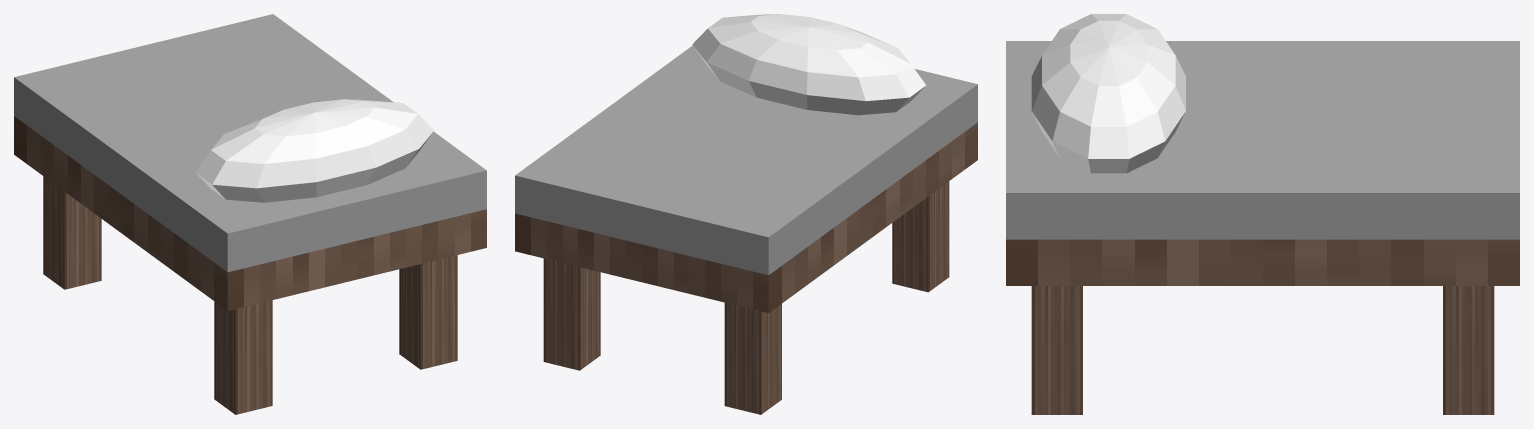
Rendered from Bed.gltf.
3 renders of one model, left to right at view 1: azimuth 30°, elevation 25°; view 2: azimuth 150°, elevation 25°; view 3: azimuth 270°, elevation 25°, orthographic. The views are drawn at different scales.
Parts seen in each view (by area): view 1: mesh (×5), sphere; view 2: mesh (×5), sphere; view 3: mesh (×4), sphere.
Part boxes in pixels (x1,y1,x2,y2): mesh (×5): [14, 14, 486, 414]; sphere: [195, 99, 433, 202]; mesh (×5): [515, 45, 977, 414]; sphere: [692, 14, 926, 115]; mesh (×4): [1006, 41, 1519, 414]; sphere: [1031, 14, 1185, 173].
Bounding box in the file's own units: 0.875 × 0.8125 × 1.25.
3 materials, 3 textured.
